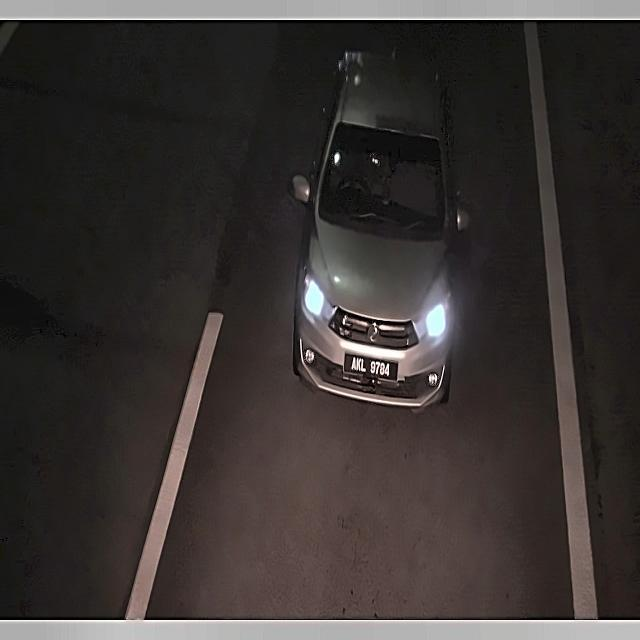car: (340, 350, 404, 386)
